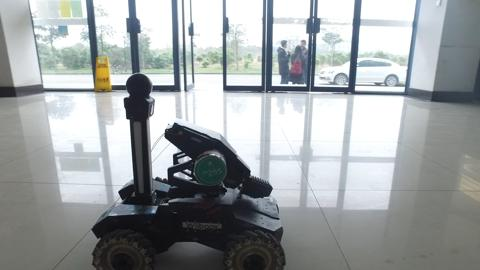chariot: (78, 75, 304, 270)
